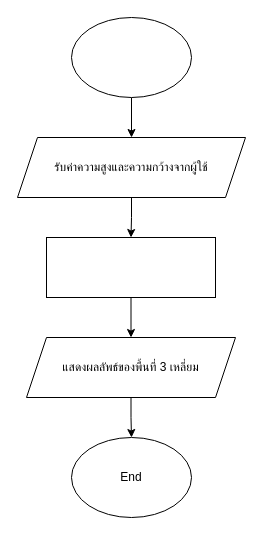
Image size: 263x535. Some labels were removed from this diagram. The centre of each missing label's shape, as x and y in pixels:
"Start" belongs at point 131,57.
"คำนวณพื้นที่ 3 เหลี่ยมโดยใช้สูตร สูงx กว้าง\2" belongs at point 131,267.
